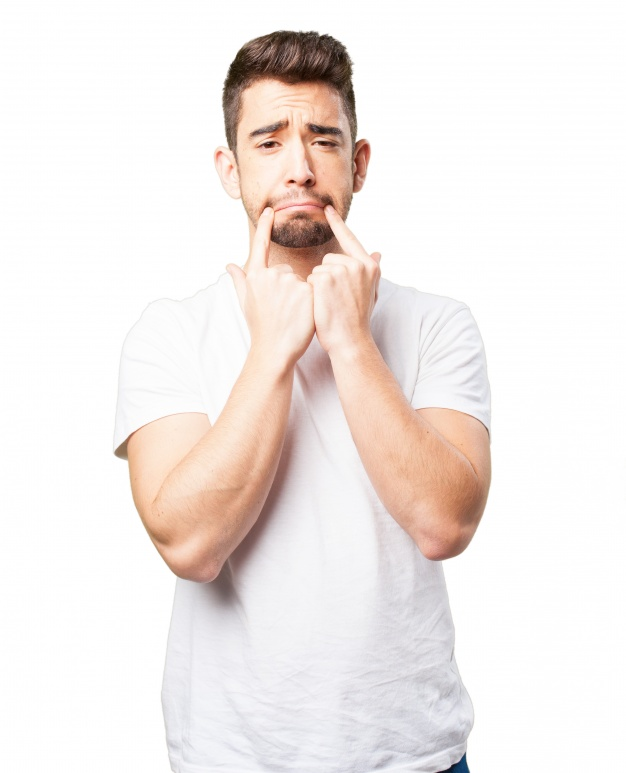sad: (231, 89, 361, 245)
